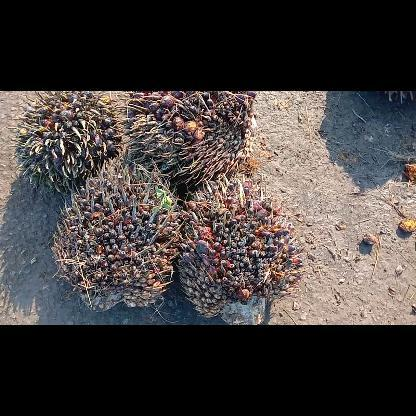TBS abnormal: (50, 151, 184, 313), (178, 170, 306, 324), (10, 92, 120, 194)
TBS masak: (115, 91, 261, 190)
